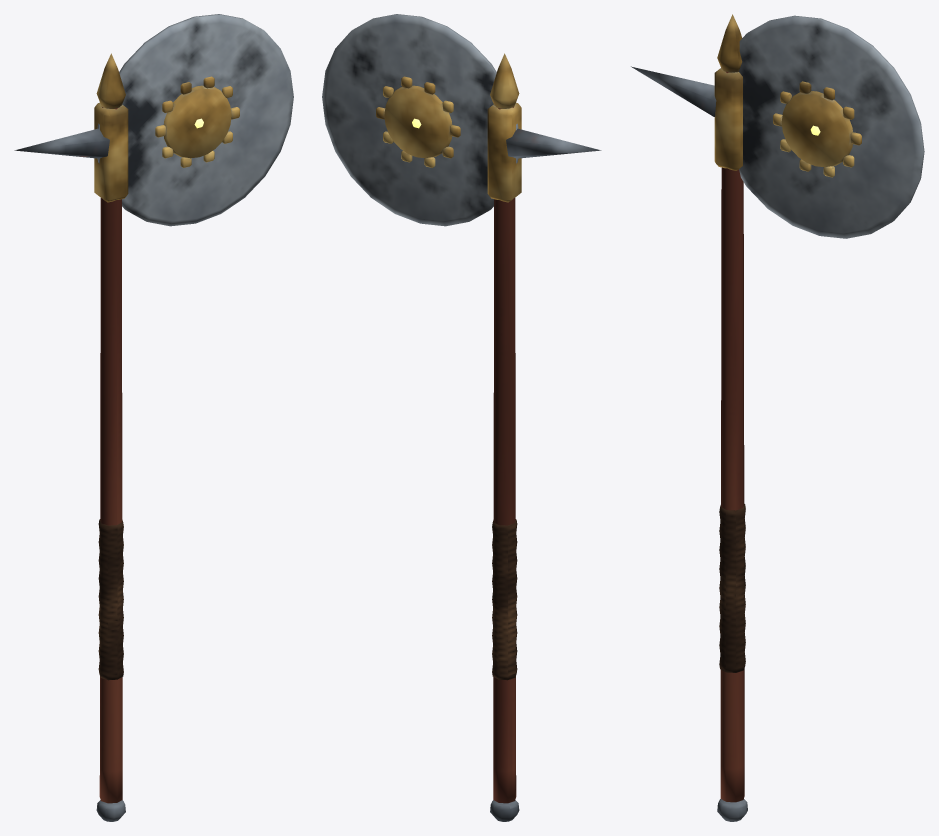
Rendered from PendulumAxe.fbx.
3 views of the same model, side by side, from view 1: azimuth 30°, elevation 25°; view 2: azimuth 150°, elevation 25°; view 3: azimuth 330°, elevation 25° (orthographic). The views are drawn at different scales.
Visible parts, largest first — view 1: PendulumAxe; view 2: PendulumAxe; view 3: PendulumAxe.
Boxes of the visible parts, left/top/right/bottom form: PendulumAxe: left=14, top=14, right=293, bottom=821; PendulumAxe: left=322, top=14, right=601, bottom=821; PendulumAxe: left=631, top=14, right=924, bottom=821.
Bounding box in the file's own units: 0.568 × 1.52 × 0.0572.
